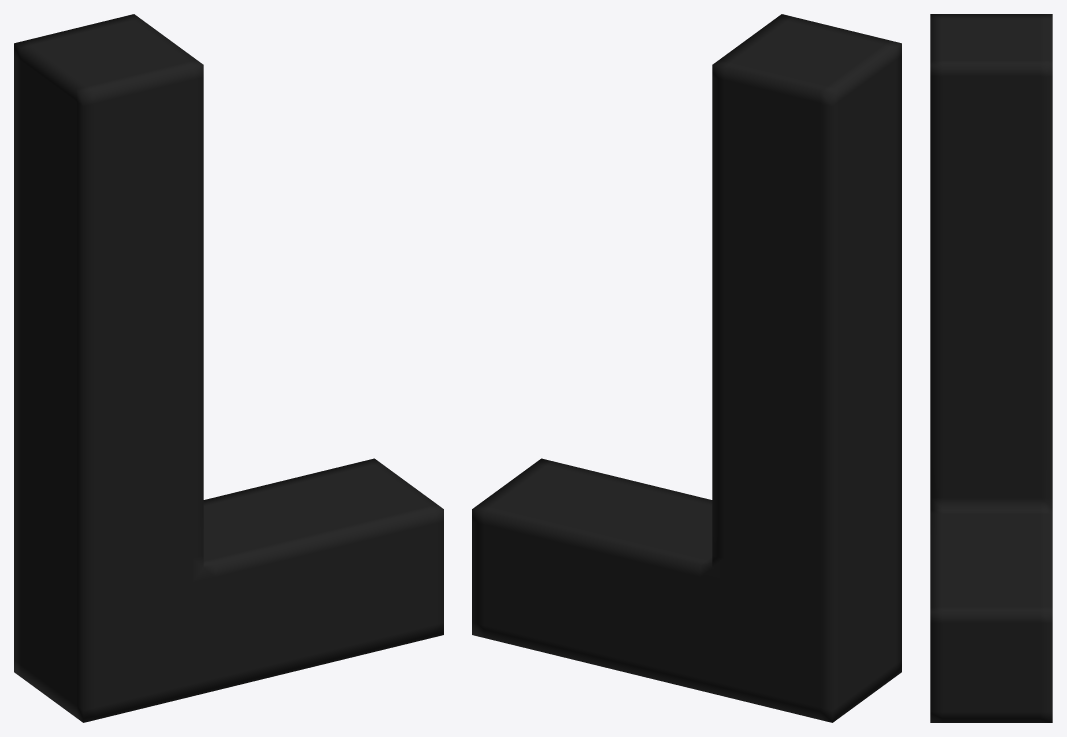
The model's file is font_l.glb.
3 views of the same model, side by side, from view 1: azimuth 30°, elevation 25°; view 2: azimuth 150°, elevation 25°; view 3: azimuth 270°, elevation 25° (orthographic). The views are drawn at different scales.
Visible parts, largest first — view 1: letter_l; view 2: letter_l; view 3: letter_l.
Boxes of the visible parts, left/top/right/bottom form: letter_l: left=14, top=14, right=443, bottom=722; letter_l: left=472, top=14, right=901, bottom=722; letter_l: left=930, top=14, right=1052, bottom=722.
Bounding box in the file's own units: 0.6 × 1 × 0.2.
Materials: 1 (1 with a texture image).
